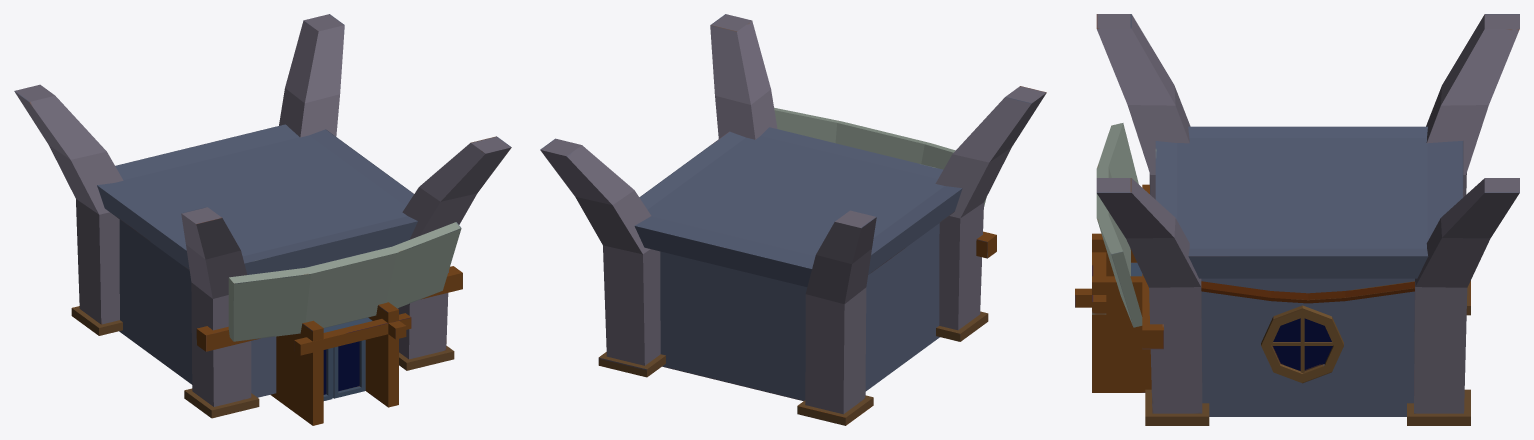
The model's file is 口味底.fbx.
3 renders of one model, left to right at view 1: azimuth 30°, elevation 25°; view 2: azimuth 150°, elevation 25°; view 3: azimuth 270°, elevation 25°, orthographic. The views are drawn at different scales.
Visible parts, largest first — view 1: 柱体.032; view 2: 柱体.032; view 3: 柱体.032.
Part boxes in pixels (x1=…): 柱体.032: x1=14, y1=14, x2=511, y2=425; 柱体.032: x1=540, y1=14, x2=1046, y2=425; 柱体.032: x1=1075, y1=14, x2=1519, y2=425.
Size of the model in its own units: 212 by 146 by 222.
